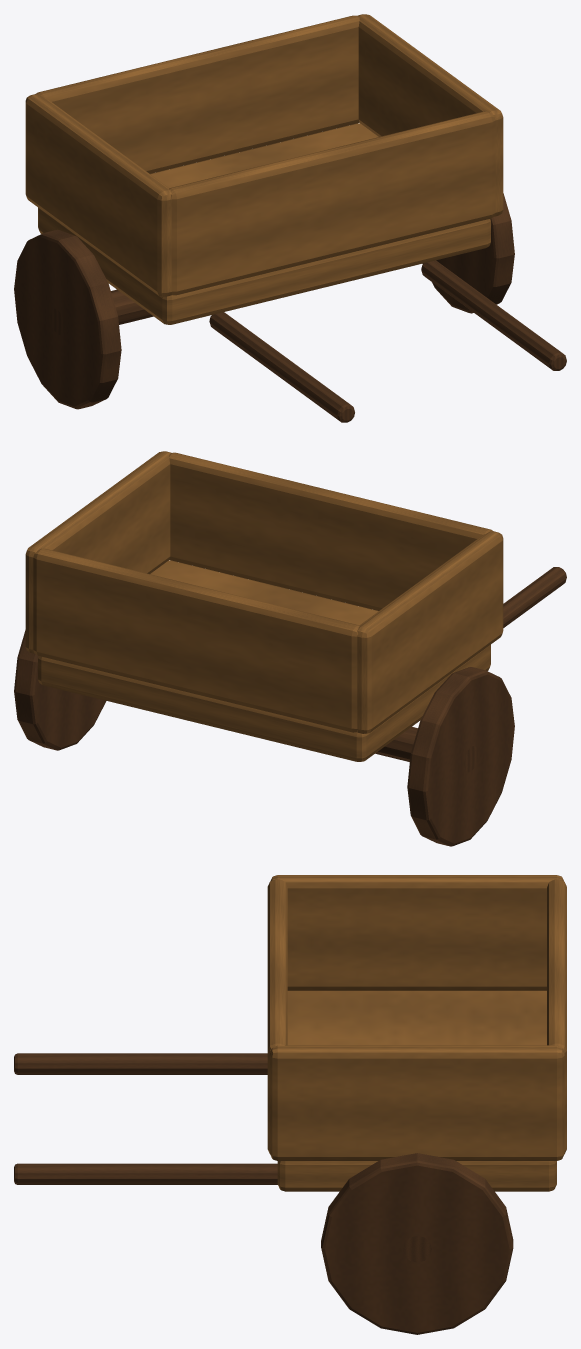
The model's file is cart.glb.
The picture shows the model from 3 angles, top to bottom: view 1: azimuth 30°, elevation 25°; view 2: azimuth 150°, elevation 25°; view 3: azimuth 270°, elevation 25°; orthographic projection. The views are drawn at different scales.
Parts seen in each view (by area): view 1: end, end.001, side, cart_bed, wheel, side.001, wheel.001, drawbar.001, drawbar, axle; view 2: end.001, end, side, cart_bed, wheel, side.001, wheel.001, drawbar, axle; view 3: side.001, side, wheel.001, cart_bed, drawbar.001, drawbar, end, end.001, axle.
Part boxes in pixels (<box>): end: <box>169,111,495,295</box>; end.001: <box>35,15,359,173</box>; side: <box>25,94,171,296</box>; cart_bed: <box>38,123,490,324</box>; wheel: <box>14,229,121,409</box>; side.001: <box>357,14,503,216</box>; wheel.001: <box>422,193,514,313</box>; drawbar.001: <box>421,260,566,370</box>; drawbar: <box>209,312,354,422</box>; axle: <box>51,289,153,335</box>; end.001: <box>33,548,359,732</box>; end: <box>169,452,493,610</box>; side: <box>357,531,503,733</box>; cart_bed: <box>38,560,490,761</box>; wheel: <box>407,667,514,846</box>; side.001: <box>25,451,171,653</box>; wheel.001: <box>14,630,106,750</box>; drawbar: <box>503,567,566,627</box>; axle: <box>375,727,477,772</box>; side.001: <box>270,1045,564,1160</box>; side: <box>270,875,563,990</box>; wheel.001: <box>321,1153,513,1334</box>; cart_bed: <box>277,990,556,1191</box>; drawbar.001: <box>14,1163,277,1184</box>; drawbar: <box>14,1053,267,1074</box>; end: <box>267,879,287,1153</box>; end.001: <box>547,879,566,1153</box>; axle: <box>402,1236,431,1262</box>.
Size of the model in its own units: 1.64 by 0.95 by 1.78.
3 materials, 2 textured.
